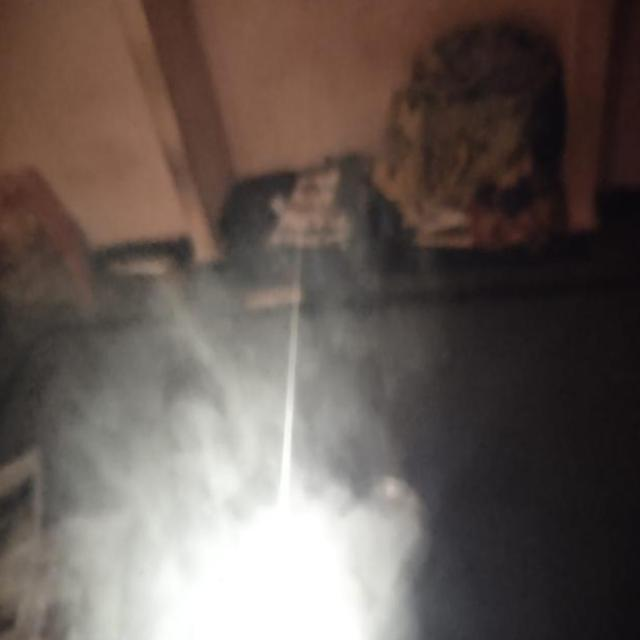fire: (4, 237, 510, 640)
